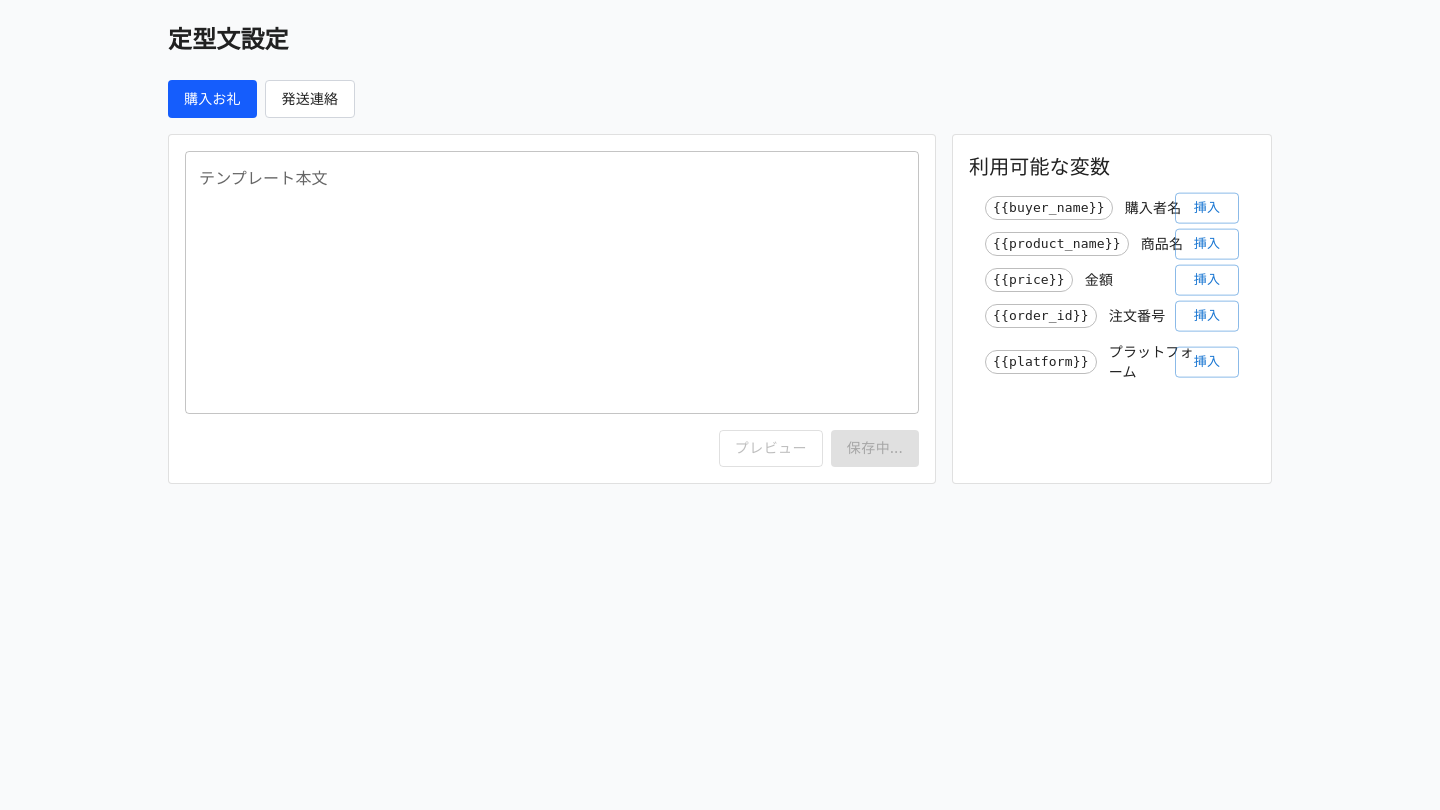
Test: SettingsPage (UC-010) › 変数一覧が表示され、挿入とプレビューが動作する
expect the text "{{buyer_name}}" is shown: met, box [986, 198, 1112, 218]
expect the text "{{product_name}}" is shown: met, box [986, 234, 1128, 254]
Click the button "挿入" in the row of "{{buyer_name}}": (1207, 208) [1175, 193, 1239, 223]
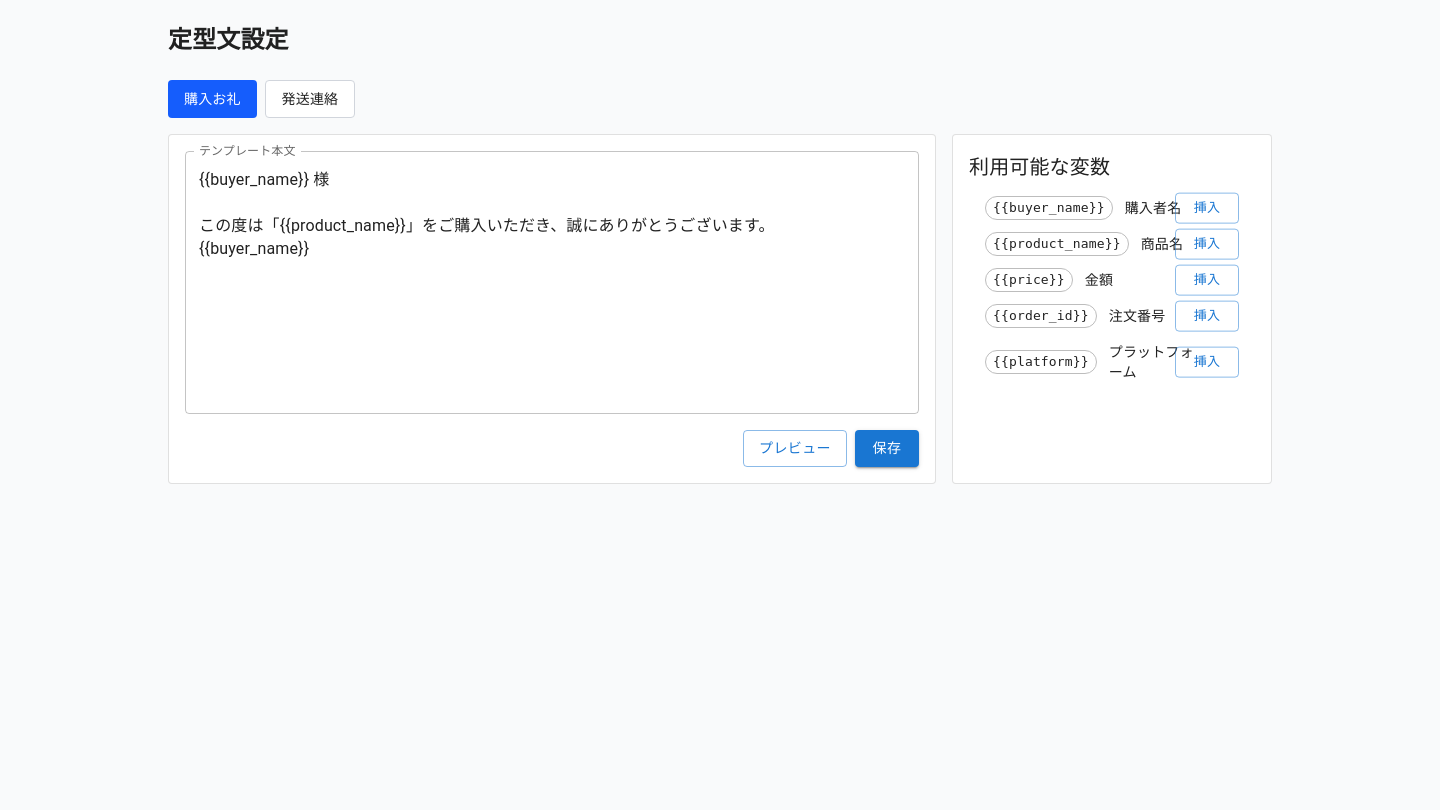
Click the button "プレビュー": (795, 448) [743, 430, 847, 466]
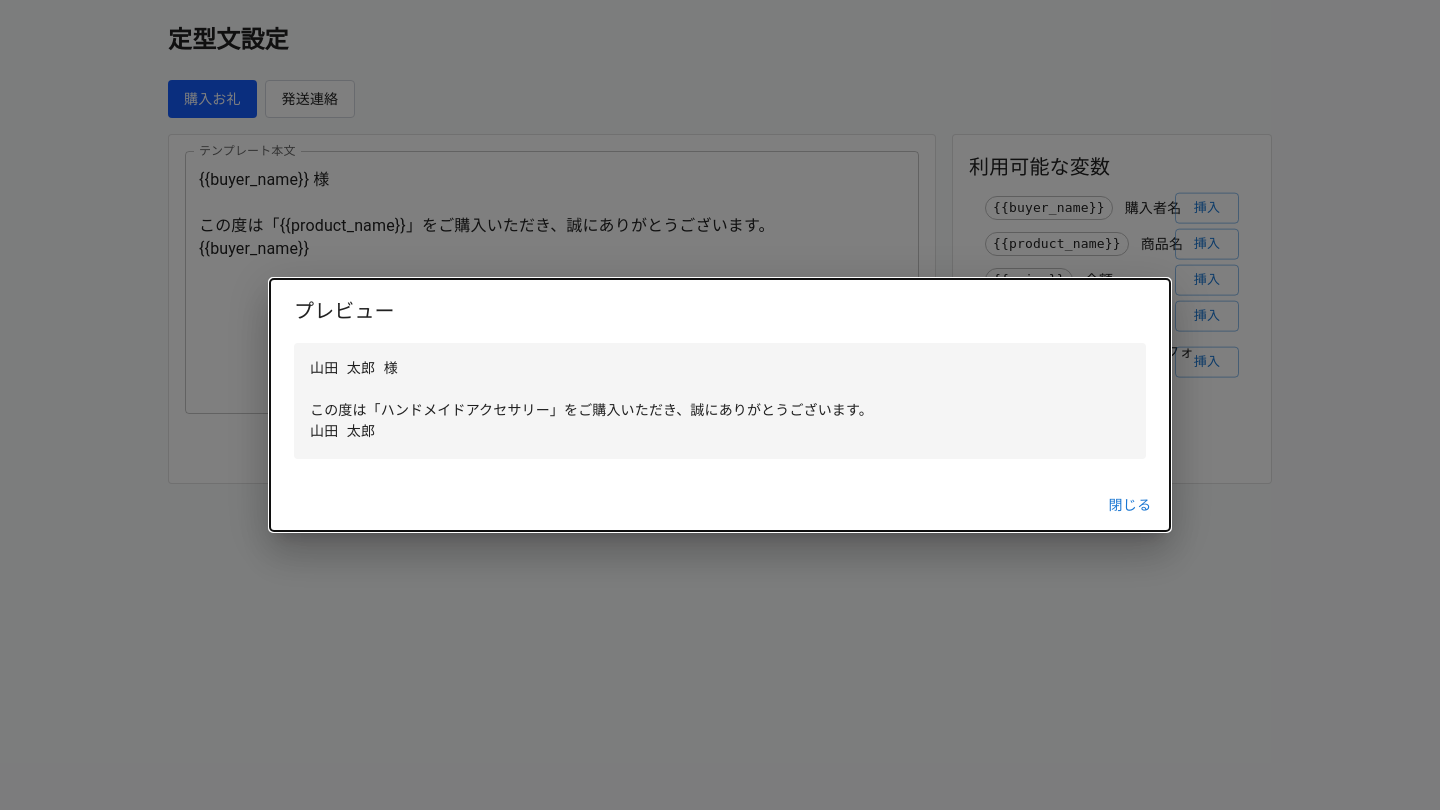
expect the heading "プレビュー" is shown: met, box [294, 299, 395, 323]
expect the text "山田 太郎 様 この度は「ハンドメイドアクセサリー」をご購入いただき、誠にありがとうございます。 山田 太郎" is shown: met, box [294, 343, 1146, 459]
